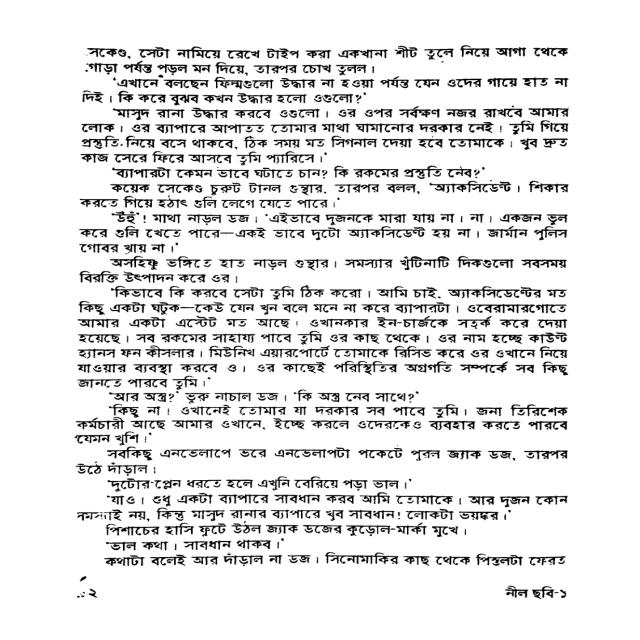page number: (73, 586, 102, 603)
paragraph: (76, 285, 569, 389), (80, 105, 570, 165), (80, 490, 567, 537), (83, 164, 566, 211), (80, 401, 566, 446), (83, 210, 565, 255), (79, 42, 571, 76), (79, 445, 568, 477), (87, 255, 564, 286), (85, 76, 567, 105), (86, 550, 570, 572), (98, 388, 430, 404), (103, 475, 413, 490), (100, 538, 287, 552)
text: (499, 583, 572, 604)
